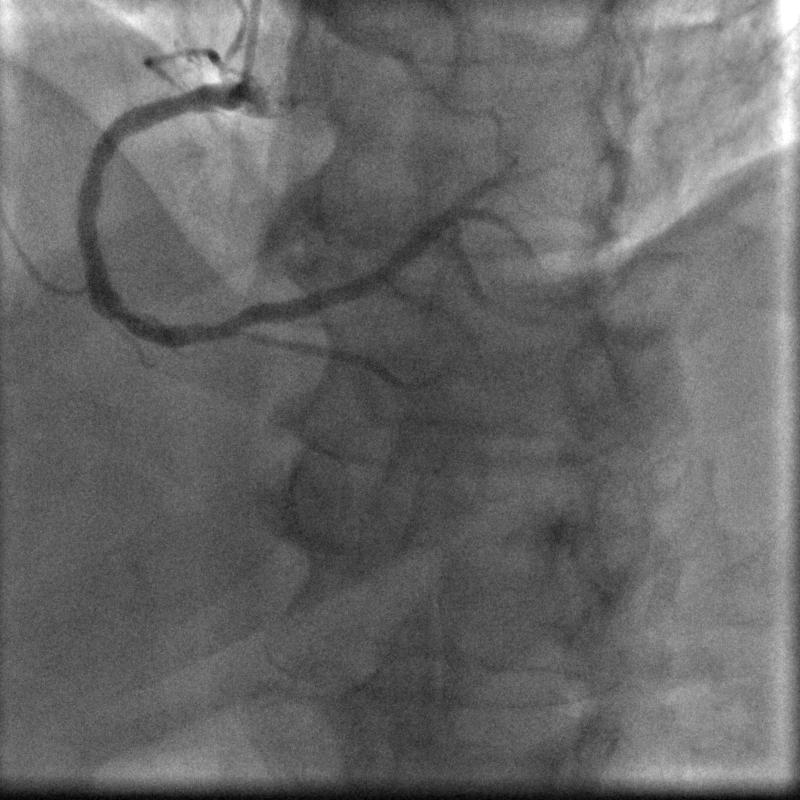Stenosis: (176, 306, 253, 345)
